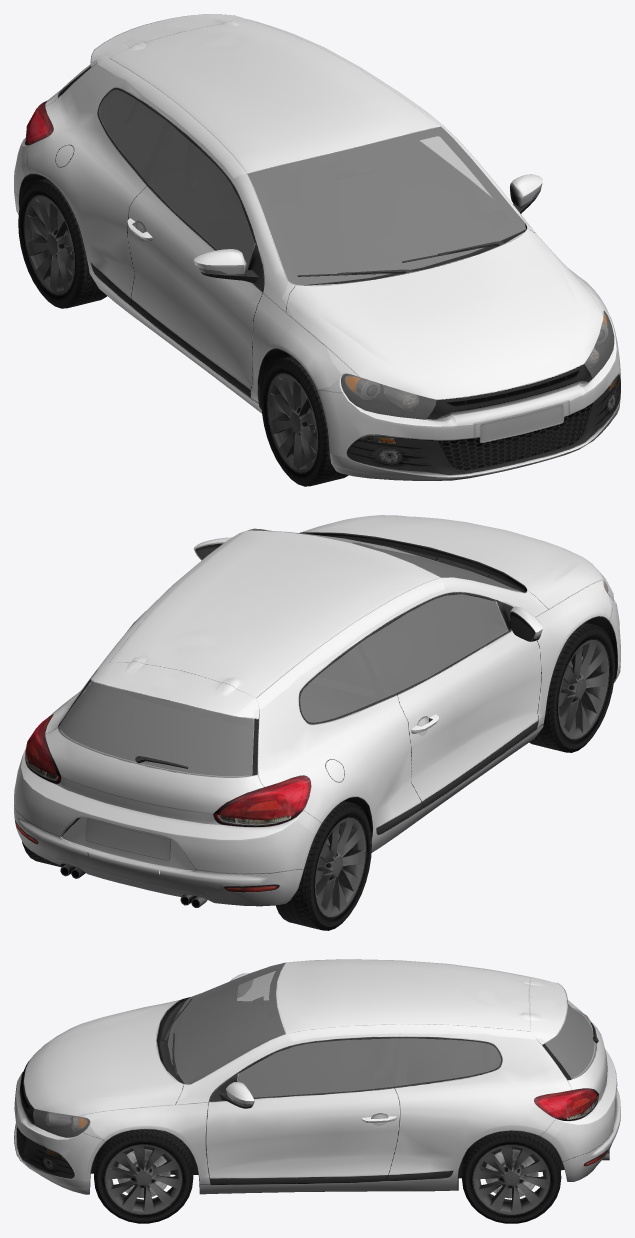
Rendered from CAR FINAL.fbx.
3 renders of one model, top to bottom at view 1: azimuth 30°, elevation 25°; view 2: azimuth 150°, elevation 25°; view 3: azimuth 270°, elevation 25°, orthographic. The views are drawn at different scales.
Parts seen in each view (by area): view 1: polySurface43, polySurface36, GLASS, Wheels_RR_LOD0, Wheels_FR_LOD0, polySurface45, polySurface28, polySurface30, polySurface33; view 2: polySurface43, polySurface45, GLASS (×2), Wheels_RR_LOD0, Wheels_FR_LOD0, polySurface36, polySurface33, polySurface32, polySurface28; view 3: polySurface43, GLASS (×2), polySurface45, polySurface36, Wheels_FL_LOD0, Wheels_RL_LOD0, polySurface32, polySurface30.
Boxes of the visible parts, x1,y1,x2,y2 form: polySurface43: (35,21,608,413); polySurface36: (321,292,620,480); GLASS: (98,89,525,285); Wheels_RR_LOD0: (18,178,106,308); Wheels_FR_LOD0: (261,356,348,486); polySurface45: (14,14,258,214); polySurface28: (193,249,259,283); polySurface30: (510,174,542,213); polySurface33: (25,101,53,145); polySurface43: (51,517,614,895); polySurface45: (14,662,332,907); GLASS (×2): (58,528,522,777); Wheels_RR_LOD0: (275,801,371,930); Wheels_FR_LOD0: (529,622,614,752); polySurface36: (360,515,620,682); polySurface33: (213,775,311,826); polySurface32: (25,714,60,783); polySurface28: (509,606,542,641); polySurface43: (91,959,620,1194); GLASS (×2): (168,963,597,1097); polySurface45: (458,977,620,1181); polySurface36: (14,1017,109,1194); Wheels_FL_LOD0: (94,1129,193,1223); Wheels_RL_LOD0: (462,1130,561,1223); polySurface32: (534,1088,598,1120); polySurface30: (219,1082,254,1108).
Size of the model in its own units: 211 by 144 by 425.
